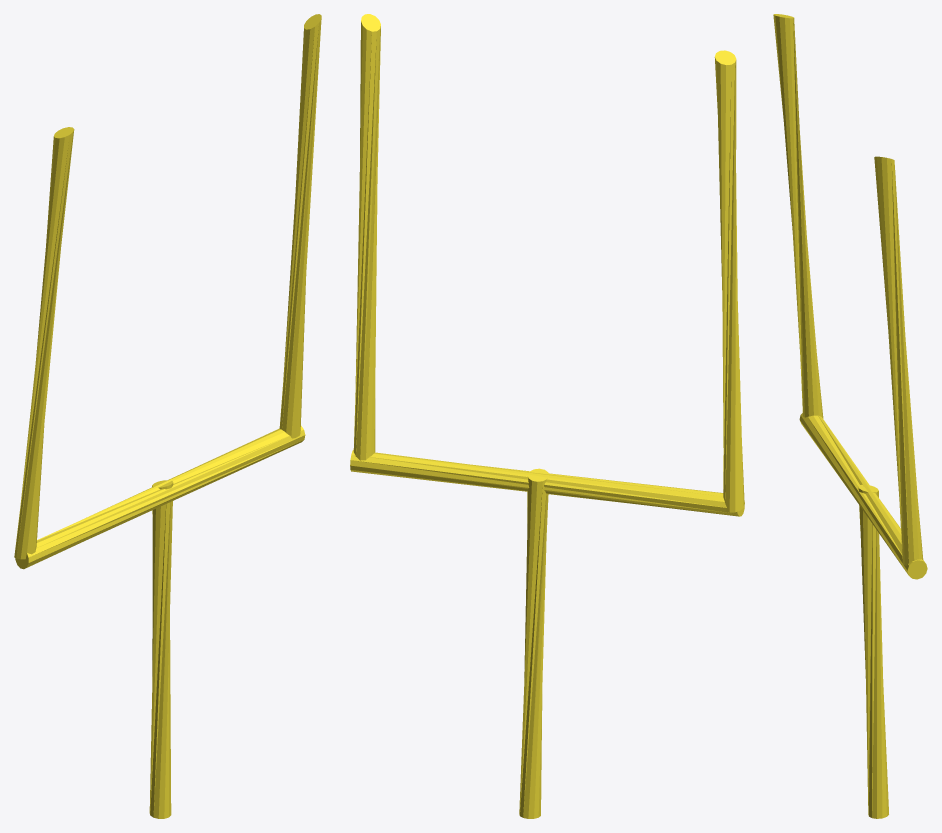
The picture shows the model from 3 angles, left to right: view 1: azimuth 30°, elevation 25°; view 2: azimuth 150°, elevation 25°; view 3: azimuth 270°, elevation 25°; orthographic projection. The views are drawn at different scales.
Visible parts, largest first — view 1: mesh_214021539, mesh_1492469312, mesh_1856437947, mesh_1289736291; view 2: mesh_1492469312, mesh_214021539, mesh_1289736291, mesh_1856437947; view 3: mesh_1492469312, mesh_214021539, mesh_1856437947, mesh_1289736291.
Boxes of the visible parts, box(x1,y1,x2,y2) form: mesh_214021539: box(14, 127, 74, 559); mesh_1492469312: box(279, 14, 321, 438); mesh_1856437947: box(149, 480, 173, 818); mesh_1289736291: box(15, 425, 305, 569); mesh_1492469312: box(353, 14, 380, 460); mesh_214021539: box(714, 50, 744, 512); mesh_1289736291: box(350, 450, 744, 516); mesh_1856437947: box(519, 468, 548, 818); mesh_1492469312: box(874, 156, 923, 565); mesh_214021539: box(773, 14, 823, 418); mesh_1856437947: box(858, 484, 888, 818); mesh_1289736291: box(799, 413, 927, 579).
Bounding box in the file's own units: 144 × 306 × 58.26.
